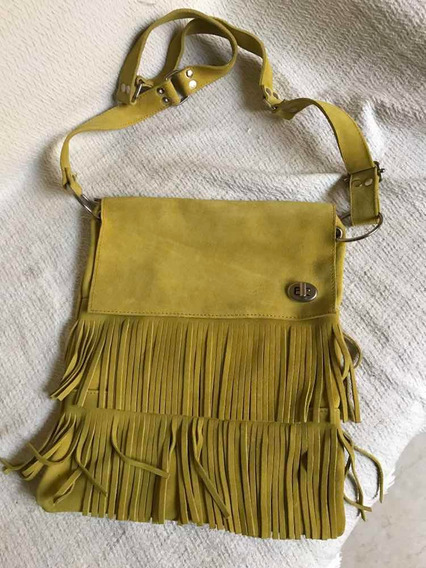cartera: (51, 9, 383, 539)
